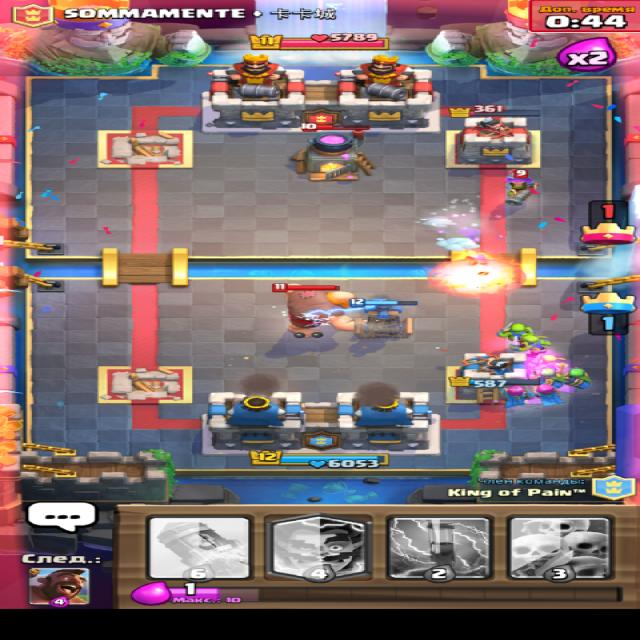Enemy-Furnace: (285, 121, 376, 182)
Enemy-Giant: (269, 281, 355, 338)
Enemy-Musketeer: (503, 168, 537, 205)
Player-Archer: (496, 384, 535, 408), (533, 383, 564, 407)
Player-Goblin: (492, 320, 533, 341), (508, 334, 552, 353), (527, 354, 568, 370)
Player-SpearGoblin: (524, 367, 564, 388), (560, 366, 593, 389)
Player-Tesla: (347, 296, 417, 338)
